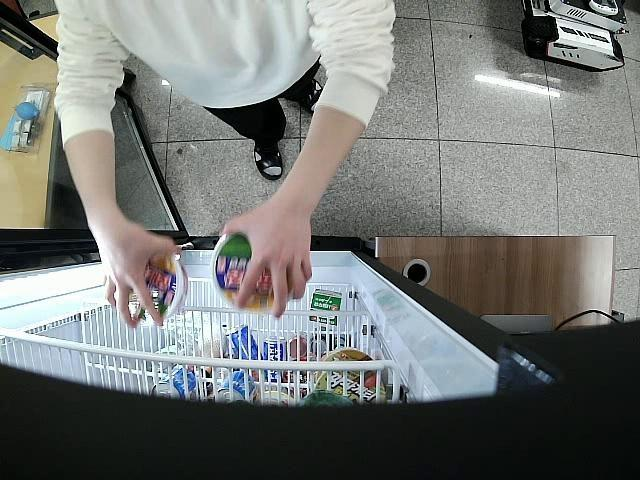09_yukGaeJang: (210, 232, 294, 314), (128, 251, 189, 328)
